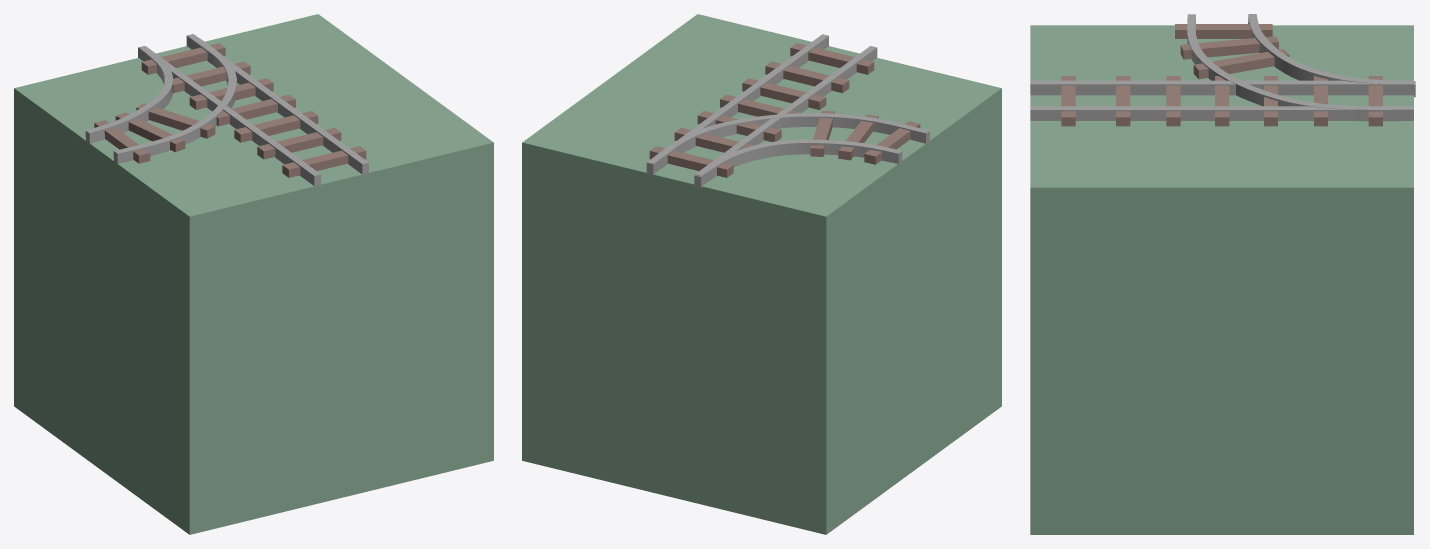
Rendered from Switch_Straight_Right.fbx.
The picture shows the model from 3 angles, left to right: view 1: azimuth 30°, elevation 25°; view 2: azimuth 150°, elevation 25°; view 3: azimuth 270°, elevation 25°; orthographic projection. The views are drawn at different scales.
Parts seen in each view (by area): view 1: Vloer7; view 2: Vloer7; view 3: Vloer7.
Part boxes in pixels (bbox=[...]): Vloer7: bbox=[14, 14, 493, 534]; Vloer7: bbox=[522, 14, 1001, 534]; Vloer7: bbox=[1030, 14, 1415, 534].
Bounding box in the file's own units: 1 × 1.04 × 1.
